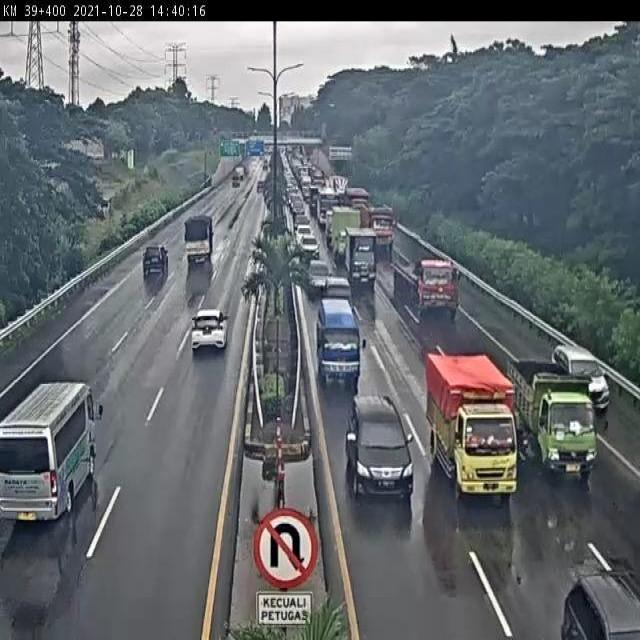bus-s-: (313, 296, 363, 389)
car: (349, 395, 417, 500), (552, 344, 611, 417), (190, 307, 227, 352), (305, 257, 331, 300), (142, 243, 170, 277), (323, 277, 354, 303), (298, 231, 321, 260)
small bus: (0, 365, 111, 547)
small truck: (184, 212, 215, 261)
truck-l-: (358, 198, 395, 250)
truck-m-: (424, 348, 520, 505), (502, 356, 596, 477), (345, 230, 378, 294), (331, 207, 361, 265)
truck-xl-: (393, 260, 461, 321)
